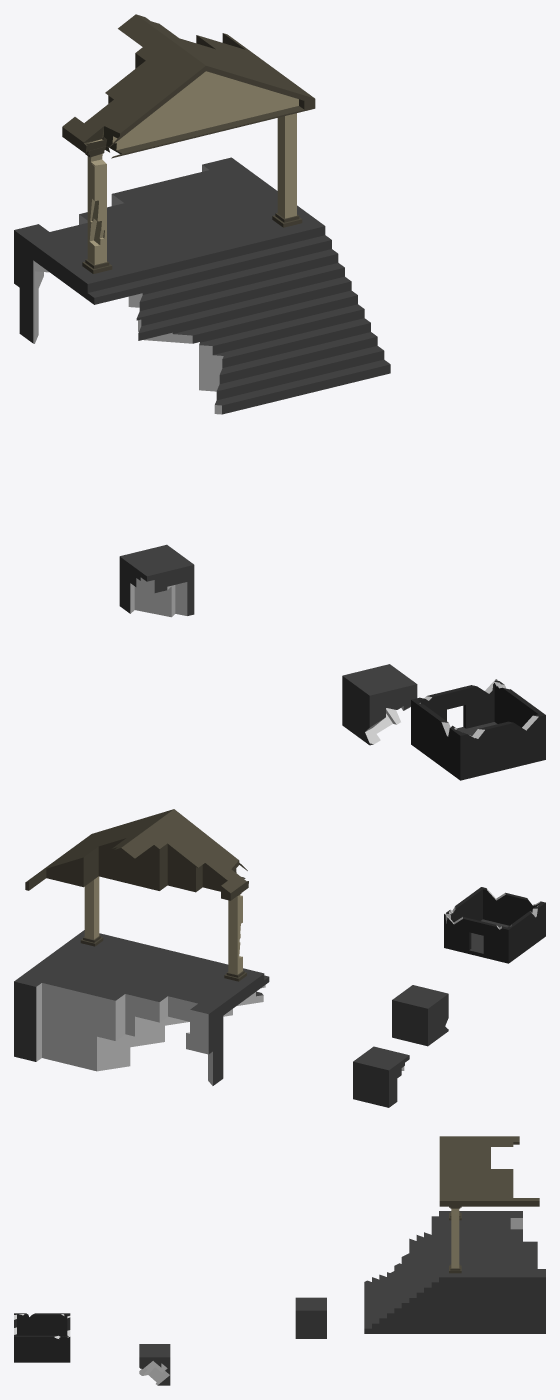
Rendered from TutorialMap.obj.
3 renders of one model, top to bottom at view 1: azimuth 30°, elevation 25°; view 2: azimuth 150°, elevation 25°; view 3: azimuth 270°, elevation 25°, orthographic. The views are drawn at different scales.
Parts seen in each view (by area): view 1: Stage, Roof, FirstRoom_Wall, Block_Ground.001, Block_Ground, Pillar, Pillar.001; view 2: Stage, Roof, FirstRoom_Wall, Block_Ground, Block_Ground.001, Pillar, Pillar.001; view 3: Stage, Roof, FirstRoom_Wall, Block_Ground.001, Block_Ground, Pillar.001.
Part boxes in pixels (x1=…): Stage: x1=14, y1=157, x2=390, y2=414; Roof: x1=62, y1=14, x2=315, y2=158; FirstRoom_Wall: x1=411, y1=679, x2=545, y2=780; Block_Ground.001: x1=119, y1=544, x2=194, y2=617; Block_Ground: x1=342, y1=664, x2=417, y2=745; Pillar: x1=82, y1=146, x2=112, y2=273; Pillar.001: x1=272, y1=113, x2=302, y2=227; Stage: x1=14, y1=930, x2=269, y2=1085; Roof: x1=25, y1=809, x2=248, y2=900; FirstRoom_Wall: x1=444, y1=887, x2=545, y2=963; Block_Ground: x1=392, y1=985, x2=448, y2=1046; Block_Ground.001: x1=353, y1=1046, x2=409, y2=1107; Pillar: x1=224, y1=893, x2=246, y2=981; Pillar.001: x1=80, y1=876, x2=103, y2=946; Stage: x1=364, y1=1211, x2=545, y2=1333; Roof: x1=439, y1=1136, x2=539, y2=1206; FirstRoom_Wall: x1=14, y1=1313, x2=70, y2=1362; Block_Ground.001: x1=295, y1=1297, x2=326, y2=1338; Block_Ground: x1=139, y1=1344, x2=170, y2=1385; Pillar.001: x1=449, y1=1206, x2=461, y2=1273.
Bounding box in the file's own units: 320 × 465 × 850.
